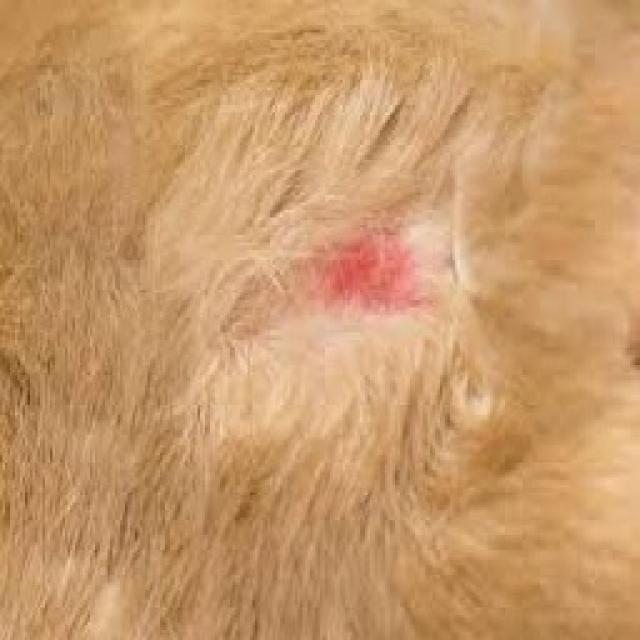hotspot: (334, 234, 412, 314)
